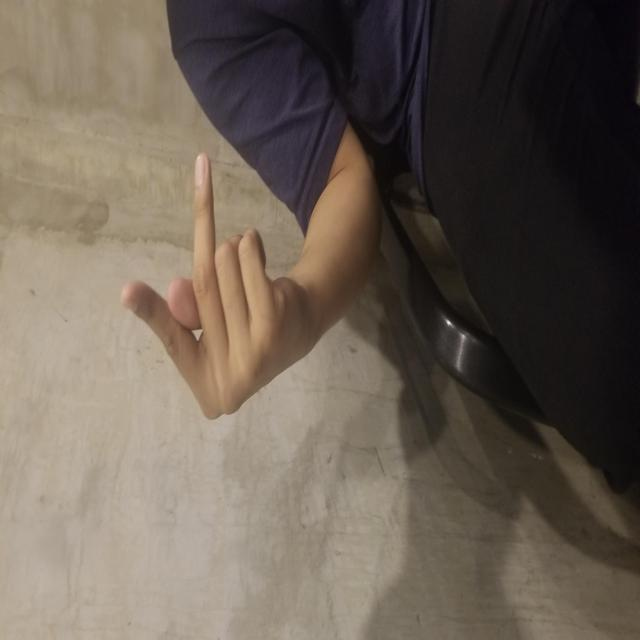K: (220, 122, 490, 301)
